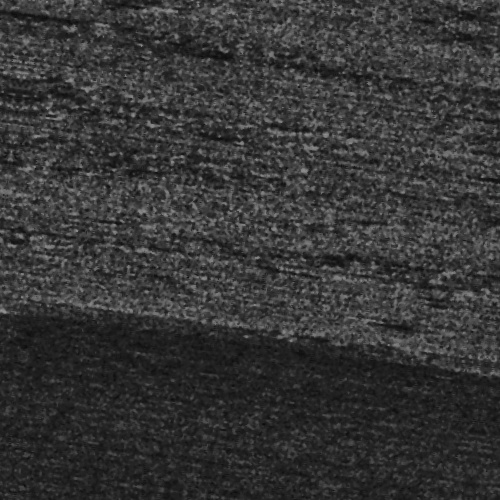object: (0, 3, 31, 12), (310, 259, 351, 264), (0, 339, 37, 344), (49, 40, 70, 45)
shadow: (0, 40, 60, 45), (285, 259, 331, 264), (0, 3, 15, 12), (0, 339, 10, 344)
